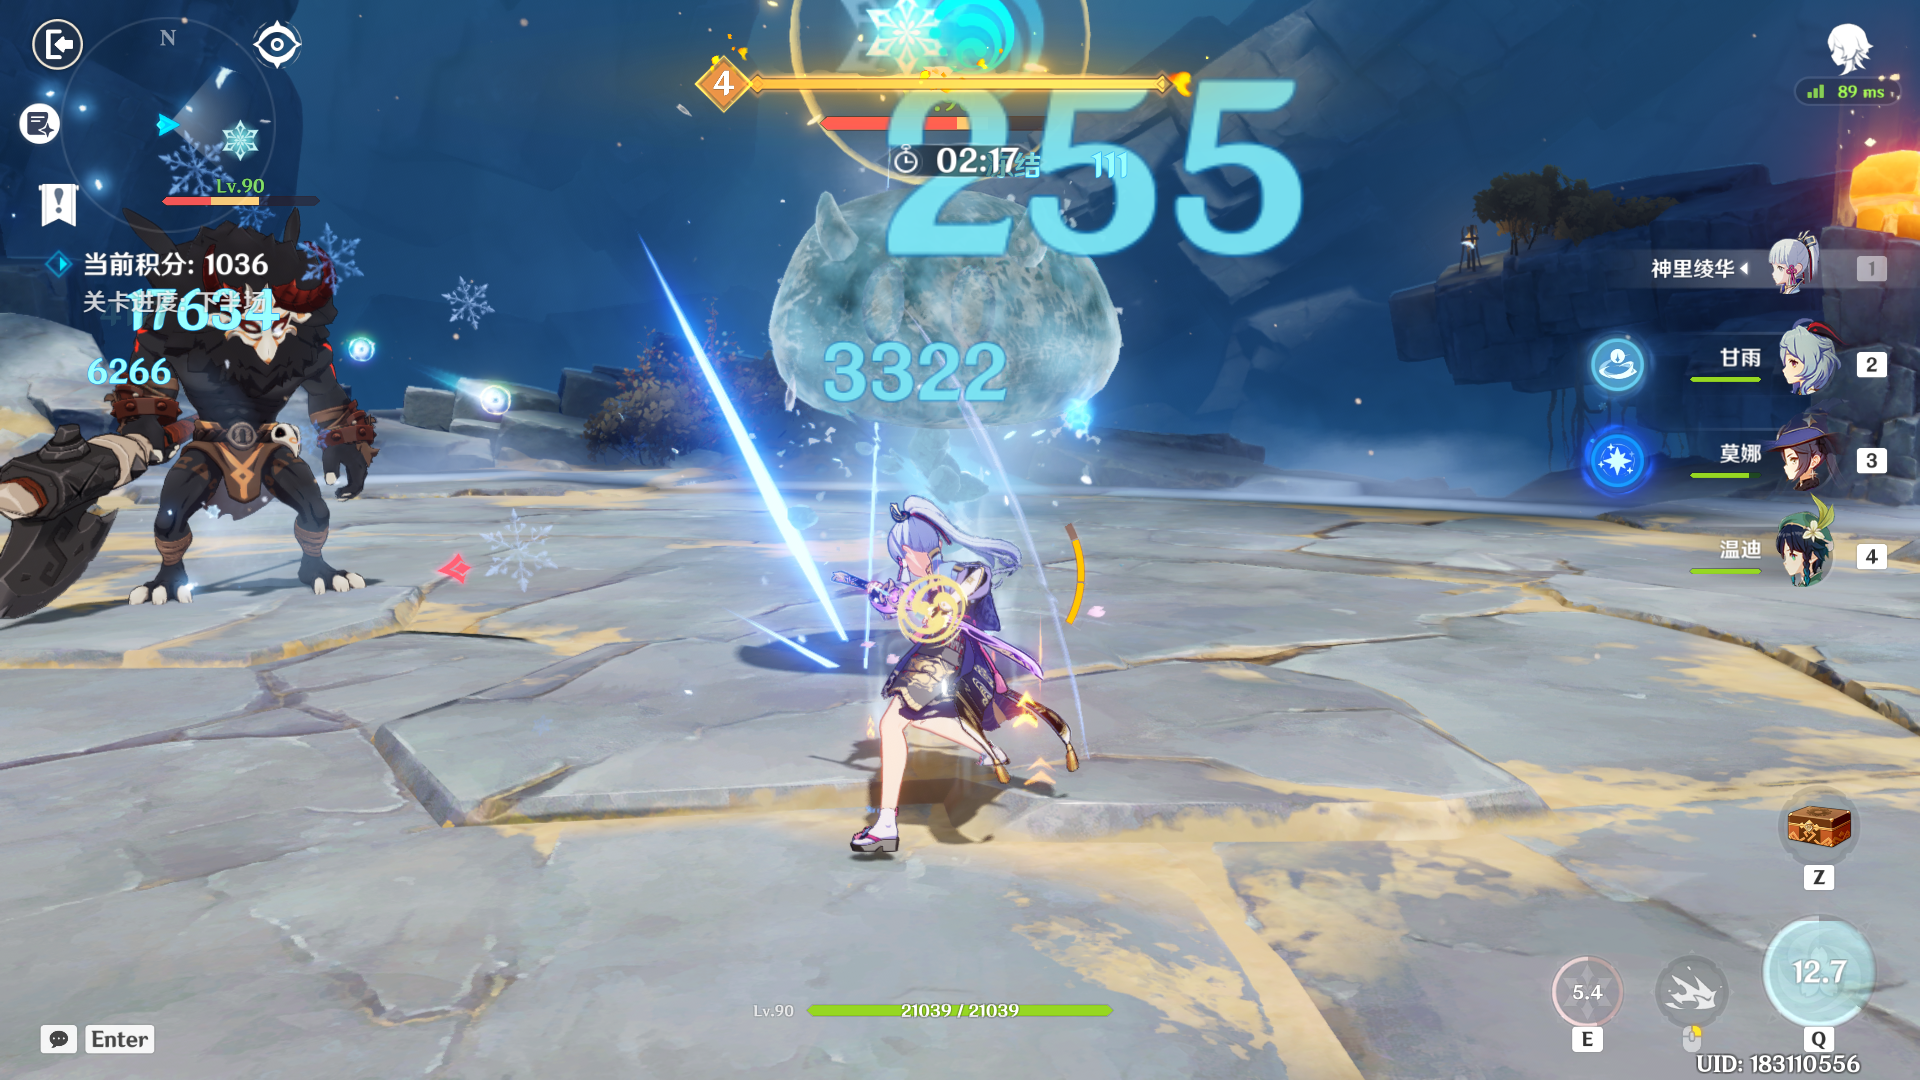bighili: (1, 212, 405, 695)
character: (800, 500, 1080, 882)
slime: (745, 164, 1168, 512)
